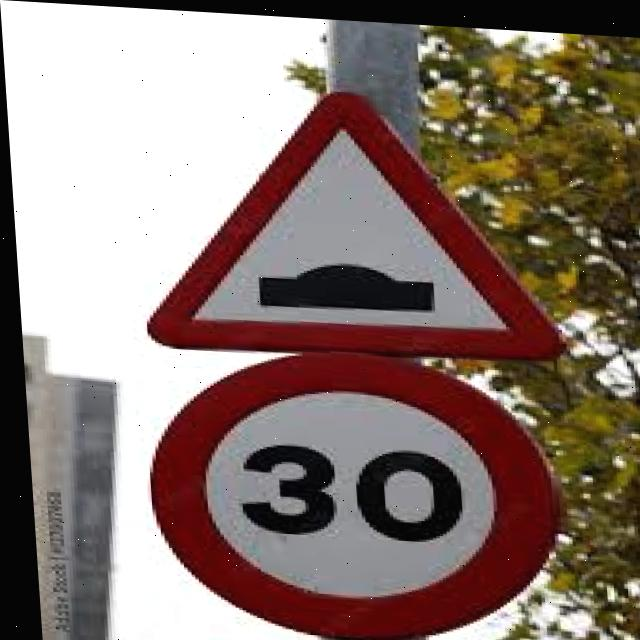Speed limit 30: (130, 337, 562, 640)
